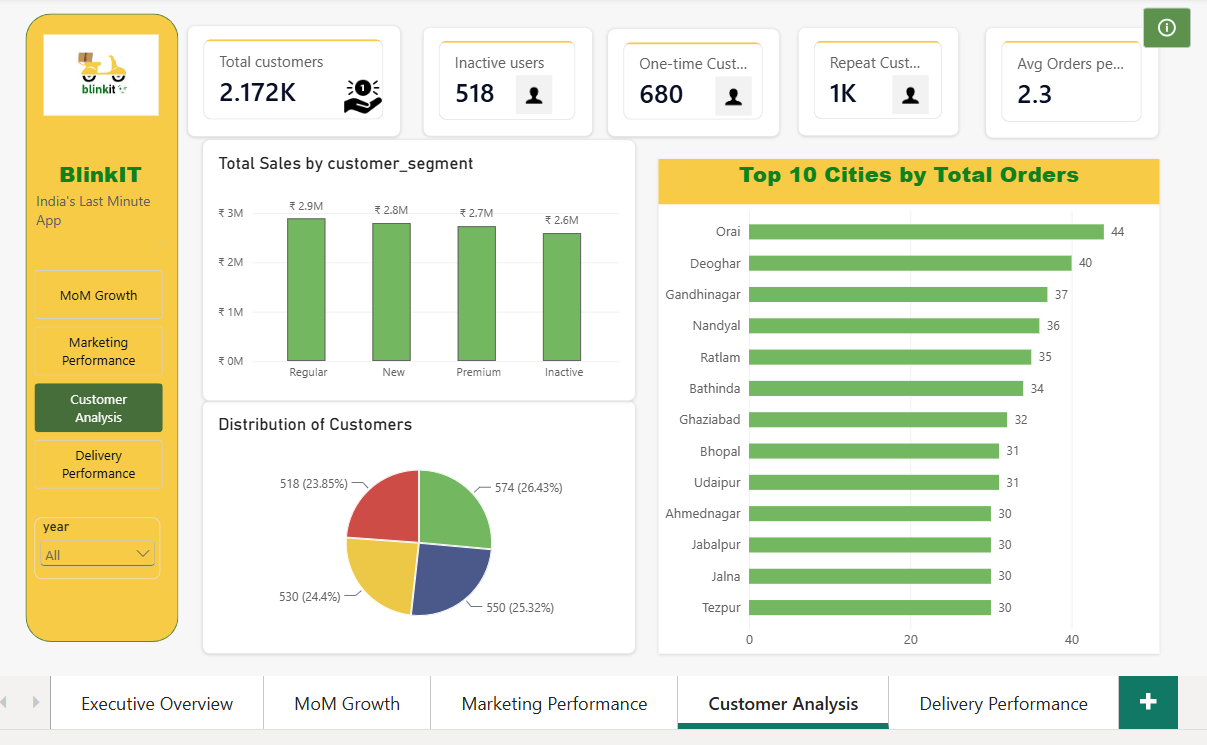

This screenshot's page, from the dashboard's own definition file:
{"tool":"powerbi","page":{"name":"Customer Analysis","canvas":[1280,720],"ordinal":3},"visuals":[{"type":"group","id":"g1","title":"Group 1","box":[198.8,30.2,1030.1,120.3],"z":0},{"type":"cardVisual","fields":{"Data":["blinkit_customers.Inactive users"]},"box":[448.1,31.7,180,116],"z":0,"group":"g1"},{"type":"shape","box":[27,17.3,162.2,666.5],"z":1000},{"type":"cardVisual","fields":{"Data":["blinkit_customers.One-time Customers"]},"box":[643.7,33.3,182.9,114.5],"z":1000,"group":"g1"},{"type":"cardVisual","fields":{"Data":["blinkit_customers.Avg Orders per Customer"]},"box":[1044.9,32.2,184,118.3],"z":2000,"group":"g1"},{"type":"image","box":[936.8,82.5,57.3,41.4],"z":2000},{"type":"cardVisual","fields":{"Data":["blinkit_customers.Repeat Customers"]},"box":[846.1,32.2,170.5,115.6],"z":3000,"group":"g1"},{"type":"pageNavigator","box":[36.6,288.9,136.8,233.8],"z":3000},{"type":"cardVisual","fields":{"Data":["blinkit_customers.Total customers"]},"box":[198.8,30.2,225.9,117.7],"z":4000,"group":"g1"},{"type":"textbox","title":"    BlinkIT","box":[38.5,171.4,136.8,90.7],"z":4000},{"type":"slicer","fields":{"Values":["Dimdate.year"]},"box":[36.6,552.7,133.6,65.2],"z":5000},{"type":"image","box":[30.2,39.8,154.3,85.9],"z":6000},{"type":"image","box":[362.7,84.3,44.5,42.9],"z":7000},{"type":"actionButton","box":[1212,11.1,50.9,42.9],"z":8000},{"type":"pieChart","title":"Distribution of Customers","fields":{"Category":["blinkit_customers.customer_segment"],"Y":["blinkit_customers.Total customers"]},"box":[214,428.1,459.6,268.4],"z":9000},{"type":"columnChart","fields":{"Category":["blinkit_customers.customer_segment"],"Y":["blinkit_orders.Total Sales"]},"box":[214,150.9,459.6,277.2],"z":10000},{"type":"clusteredBarChart","title":"Top 10 Cities by Total Orders","fields":{"Category":["blinkit_customers.area"],"Y":["blinkit_orders.Total Orders"]},"box":[698.2,171.9,531.6,524.6],"z":11000},{"type":"image","box":[749.1,84.2,57.3,41.4],"z":12000},{"type":"image","box":[537.6,82.7,57.3,41.4],"z":13000},{"type":"advanceCardE03760C5AB684758B56AA29F9E6C257B","box":[1030,0,200,150],"z":13001}]}

Visuals, with their boxes on the page's 1280x720 design canvas (x1, y1, x2, y2). These are canvas units, not pixel positions in the 1207x745 screenshot, which may show the page scaled, cropped or inside an application window:
"Group 1" group: (left=199, top=30, right=1229, bottom=150)
cardVisual - blinkit_customers.Inactive users: (left=448, top=32, right=628, bottom=148)
shape: (left=27, top=17, right=189, bottom=684)
cardVisual - blinkit_customers.One-time Customers: (left=644, top=33, right=827, bottom=148)
cardVisual - blinkit_customers.Avg Orders per Customer: (left=1045, top=32, right=1229, bottom=150)
image: (left=937, top=82, right=994, bottom=124)
cardVisual - blinkit_customers.Repeat Customers: (left=846, top=32, right=1017, bottom=148)
pageNavigator: (left=37, top=289, right=173, bottom=523)
cardVisual - blinkit_customers.Total customers: (left=199, top=30, right=425, bottom=148)
"    BlinkIT" textbox: (left=38, top=171, right=175, bottom=262)
slicer - Dimdate.year: (left=37, top=553, right=170, bottom=618)
image: (left=30, top=40, right=184, bottom=126)
image: (left=363, top=84, right=407, bottom=127)
actionButton: (left=1212, top=11, right=1263, bottom=54)
"Distribution of Customers" pieChart: (left=214, top=428, right=674, bottom=696)
columnChart - blinkit_customers.customer_segment x blinkit_orders.Total Sales: (left=214, top=151, right=674, bottom=428)
"Top 10 Cities by Total Orders" clusteredBarChart: (left=698, top=172, right=1230, bottom=696)
image: (left=749, top=84, right=806, bottom=126)
image: (left=538, top=83, right=595, bottom=124)
advanceCardE03760C5AB684758B56AA29F9E6C257B: (left=1030, top=0, right=1230, bottom=150)
